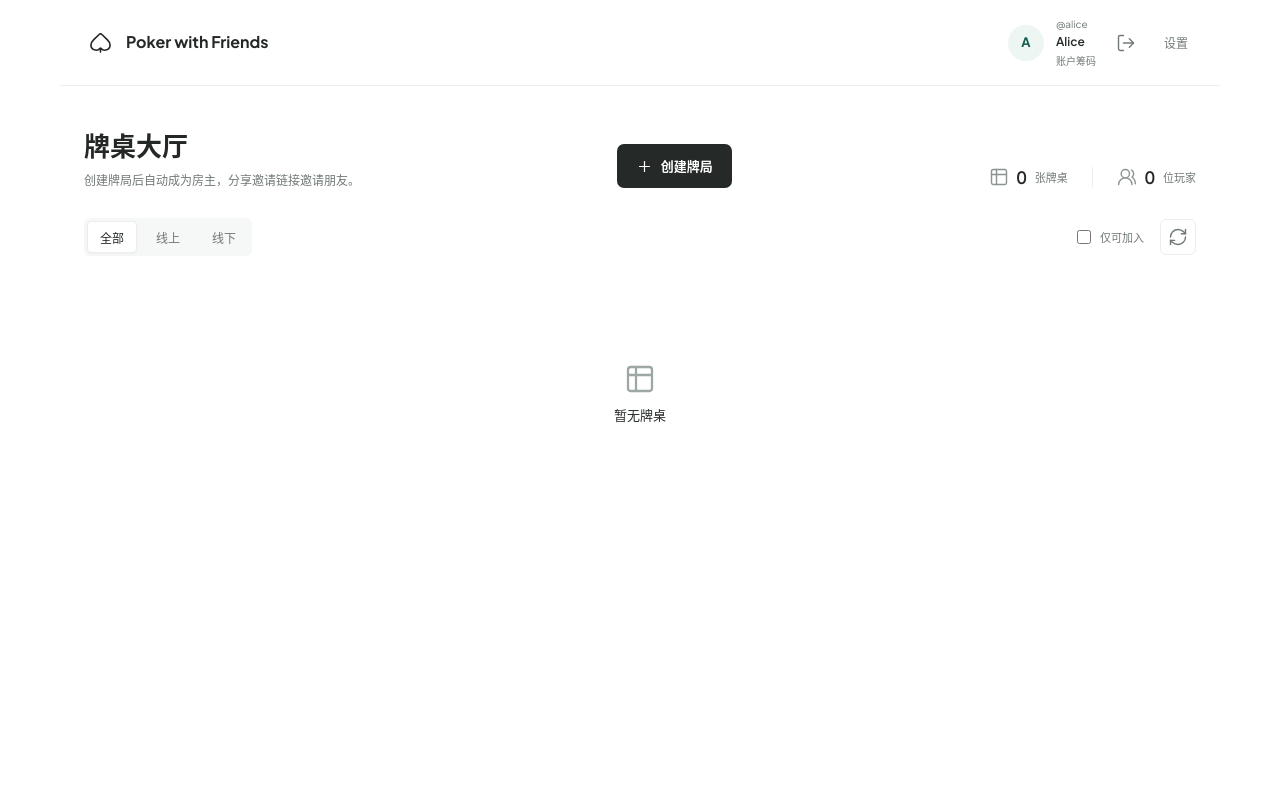
Test: password changes without the old password › lets a player save a new password and validates its length
Click the button "设置": (1176, 42) [1156,22,1196,62]
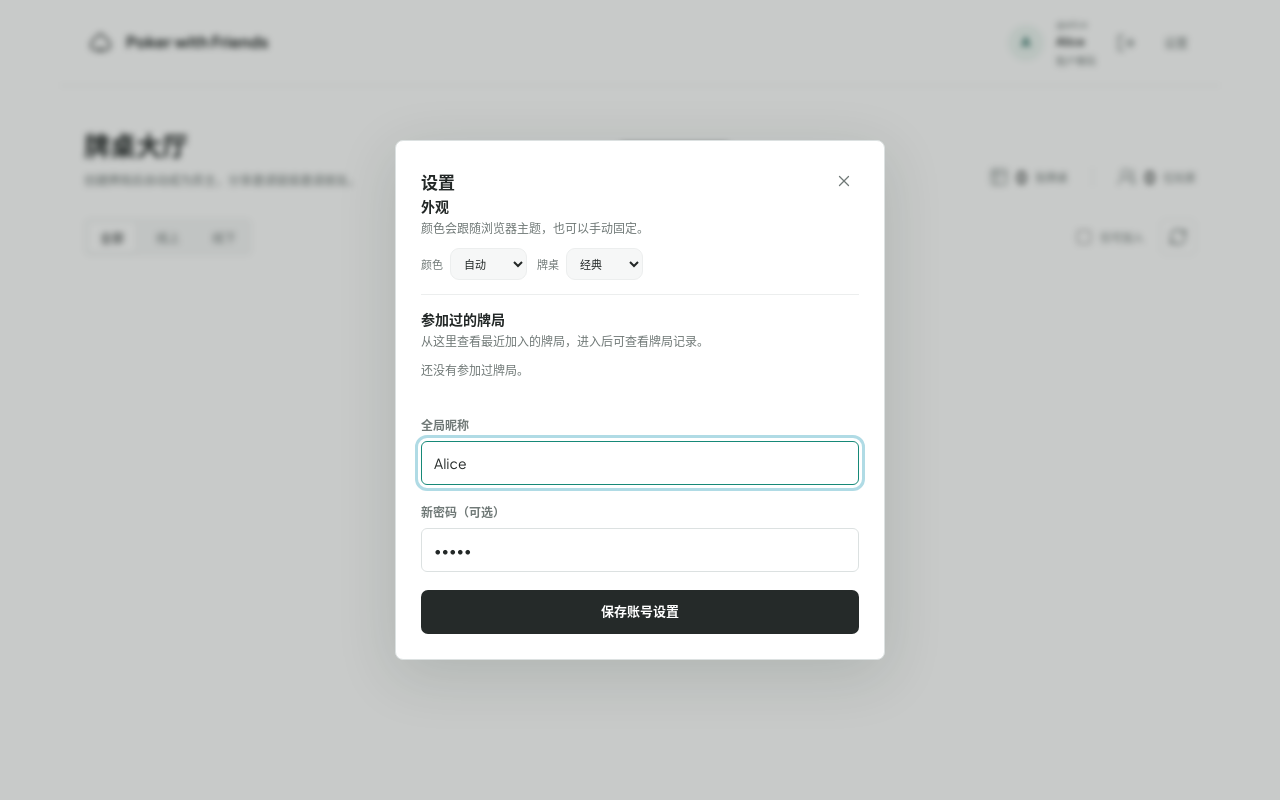
Check: the number of password fields is 1
In the password field labelled "新密码（可选）": (640, 550) [421,528,859,572], type "short"
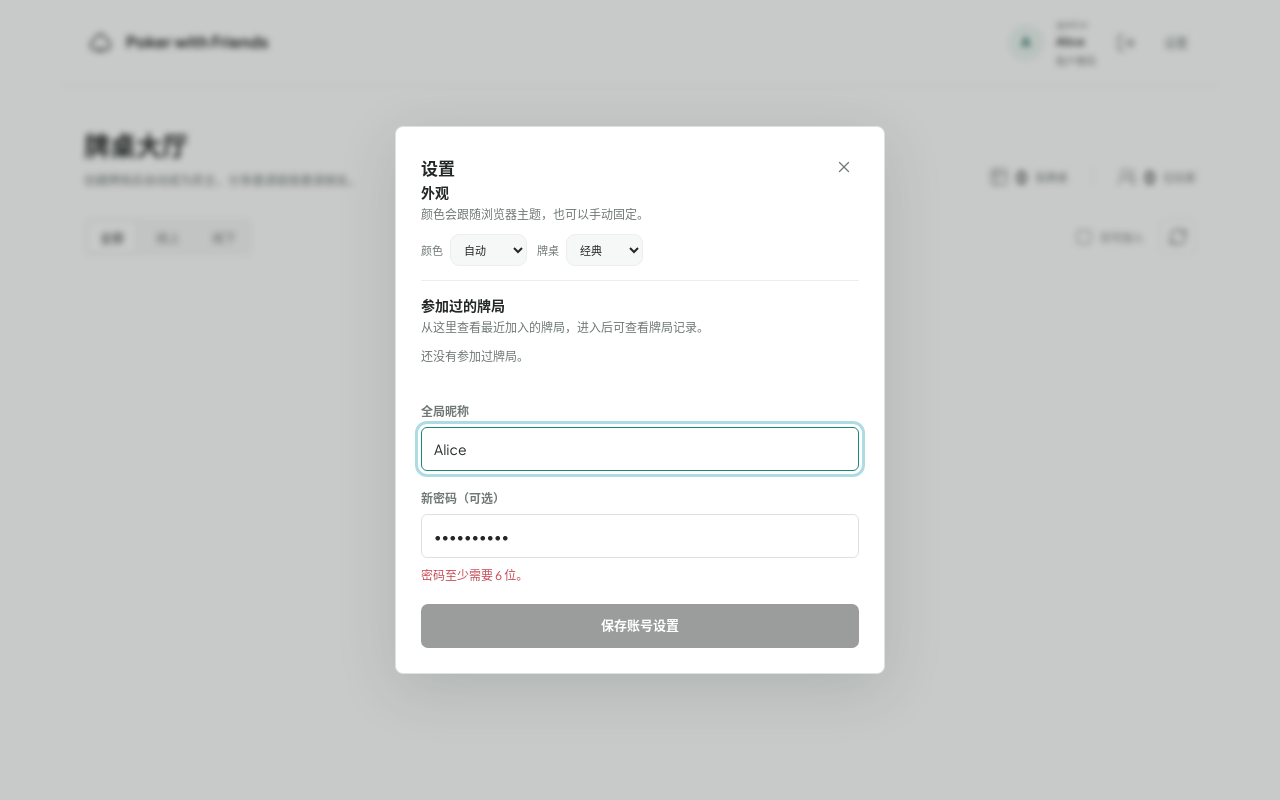
Check: the button "保存账号设置" is disabled, box [421,604,859,648]
In the password field labelled "新密码（可选） 密码至少需要 6 位。": (640, 536) [421,514,859,558], type "new-secret"
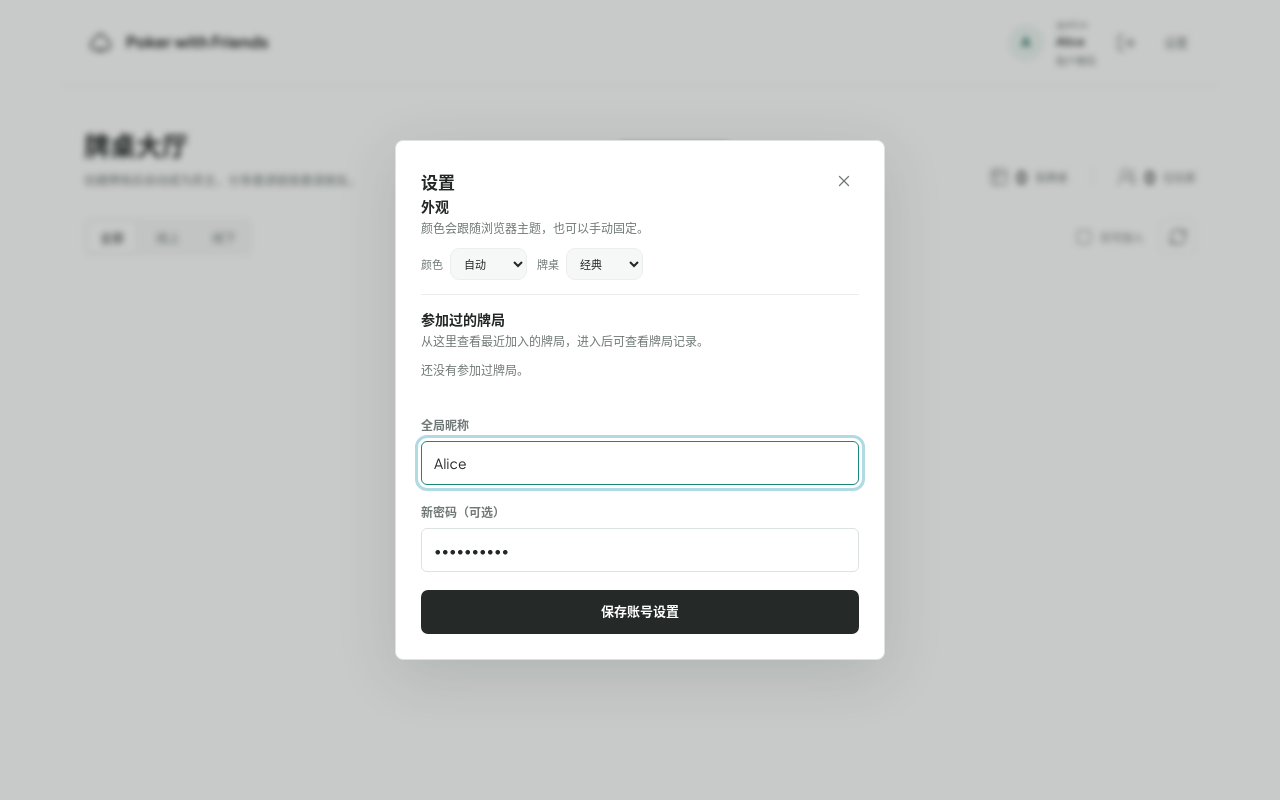
Check: the button "保存账号设置" is enabled, box [421,590,859,634]
Submit the form, box [421,416,859,634]
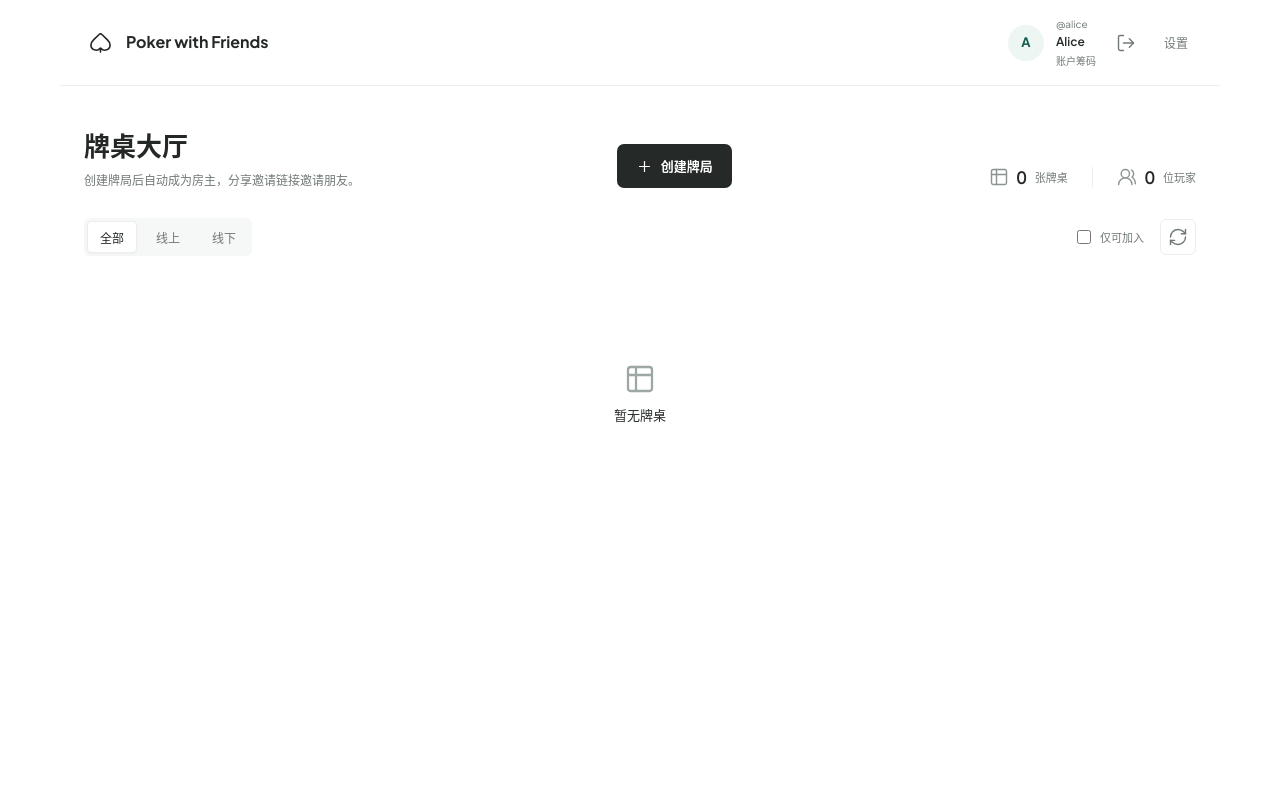
Check: the dialog is gone
